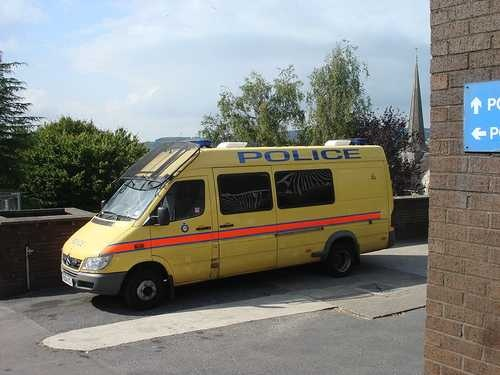Police Van: (32, 117, 408, 303)
